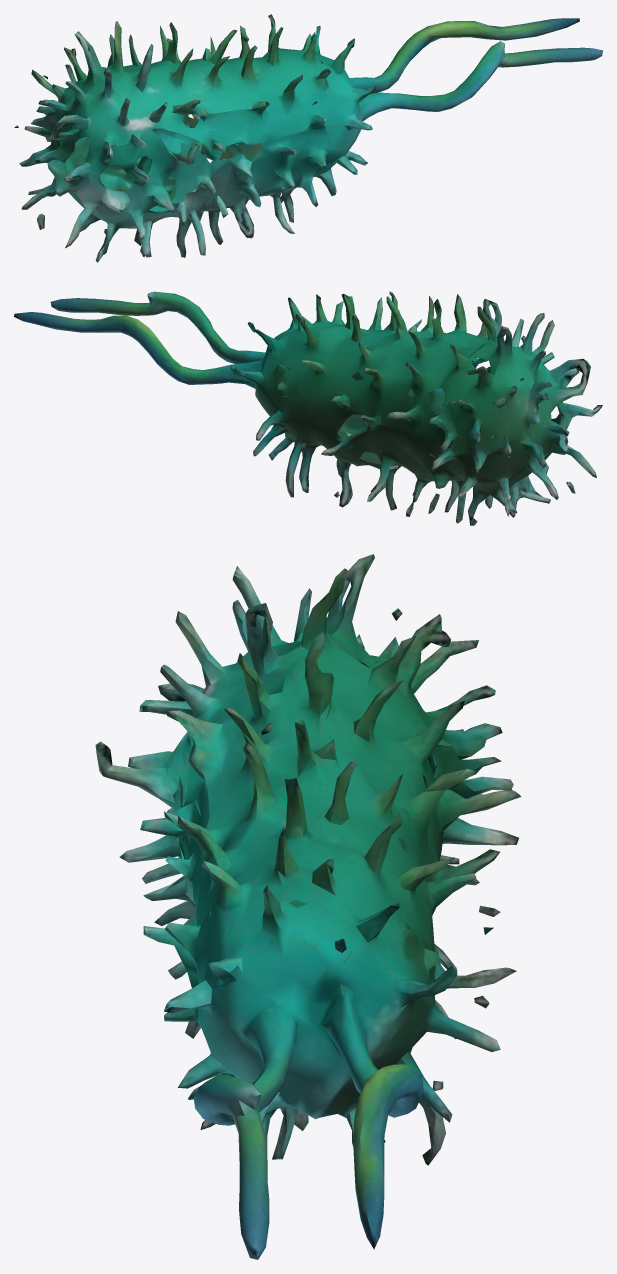
Rendered from sketchfab-e-coli.glb.
The picture shows the model from 3 angles, top to bottom: view 1: azimuth 30°, elevation 25°; view 2: azimuth 150°, elevation 25°; view 3: azimuth 270°, elevation 25°; orthographic projection. The views are drawn at different scales.
Visible parts, largest first — view 1: world_0; view 2: world_0; view 3: world_0.
Part boxes in pixels (x1=…): world_0: x1=14, y1=14, x2=602, y2=262; world_0: x1=14, y1=291, x2=602, y2=525; world_0: x1=95, y1=554, x2=521, y2=1259.
Size of the model in its own units: 0.993 by 0.4001 by 0.3368.
Materials: 1 (1 with a texture image).
